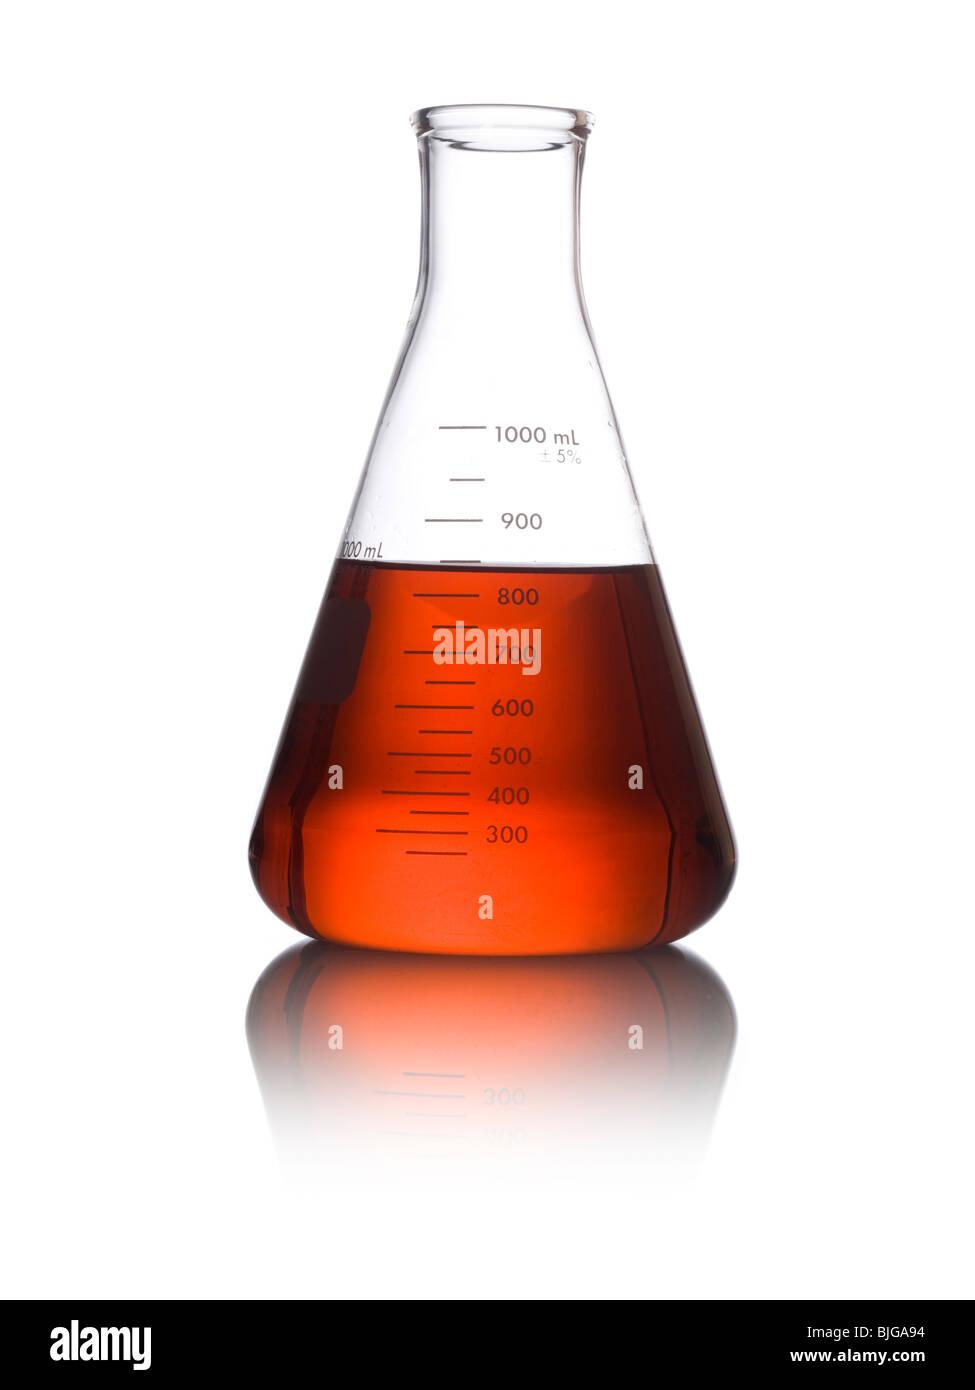Titrarion: (250, 84, 761, 963)
